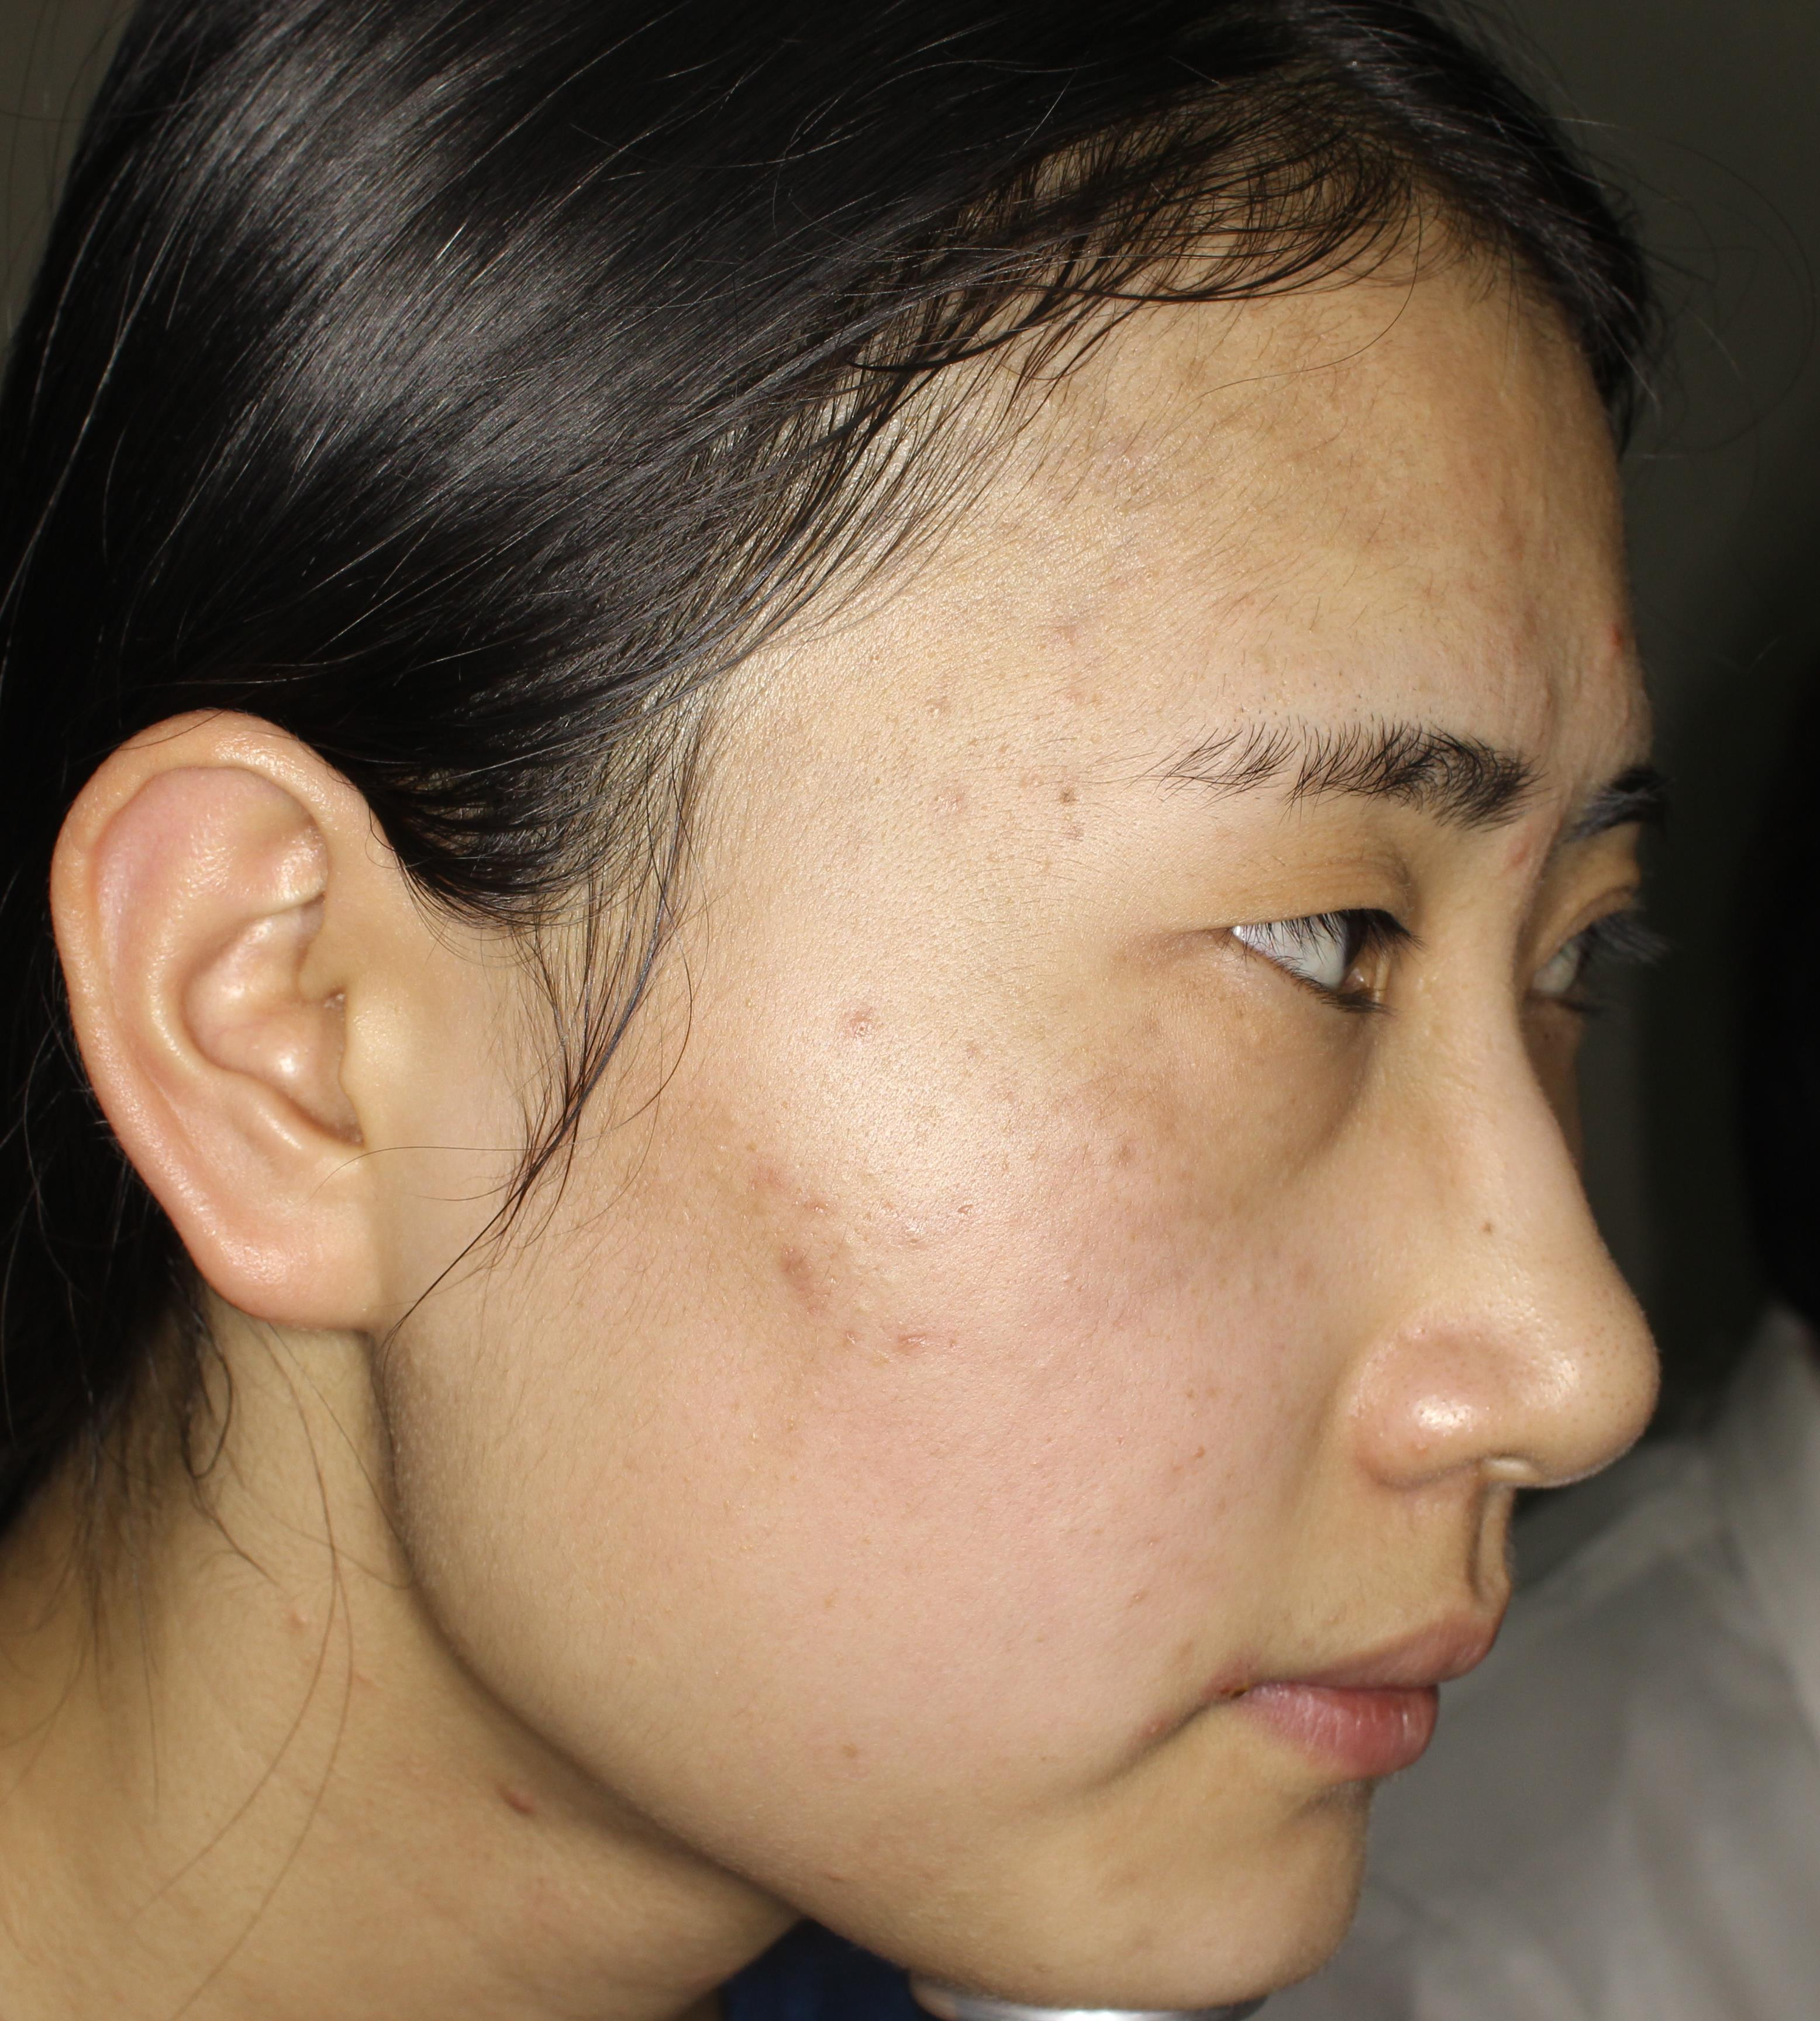fore: (1556, 604, 1658, 665)
